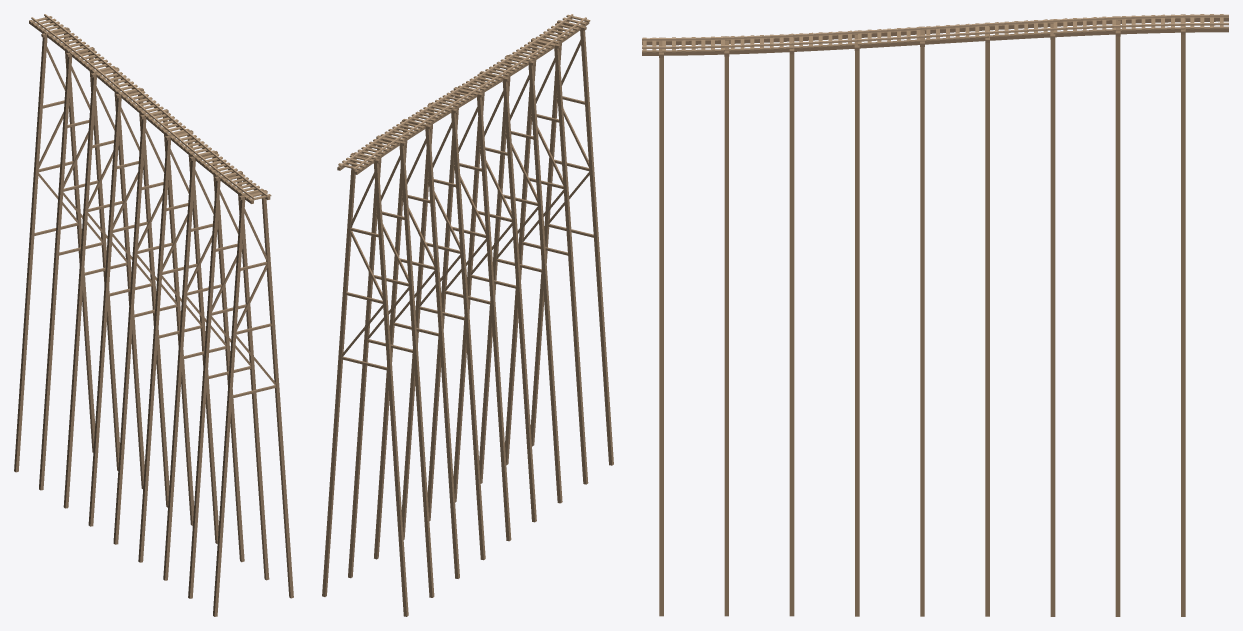
The model's file is MinecartMayhemRailFinish.glb.
3 views of the same model, side by side, from view 1: azimuth 30°, elevation 25°; view 2: azimuth 150°, elevation 25°; view 3: azimuth 270°, elevation 25° (orthographic). The views are drawn at different scales.
Parts seen in each view (by area): view 1: Trestle, Ties, Rails; view 2: Trestle, Ties, Rails; view 3: Trestle, Rails, Ties.
Part boxes in pixels (left/top/right/bottom): Trestle: left=14, top=16, right=293, bottom=616; Ties: left=29, top=16, right=271, bottom=201; Rails: left=31, top=14, right=267, bottom=199; Trestle: left=322, top=18, right=613, bottom=616; Ties: left=338, top=14, right=590, bottom=170; Rails: left=340, top=14, right=586, bottom=169; Trestle: left=642, top=14, right=1228, bottom=616; Rails: left=642, top=14, right=1228, bottom=48; Ties: left=642, top=14, right=1223, bottom=52.
Size of the model in its own units: 19 by 96.77 by 90.
